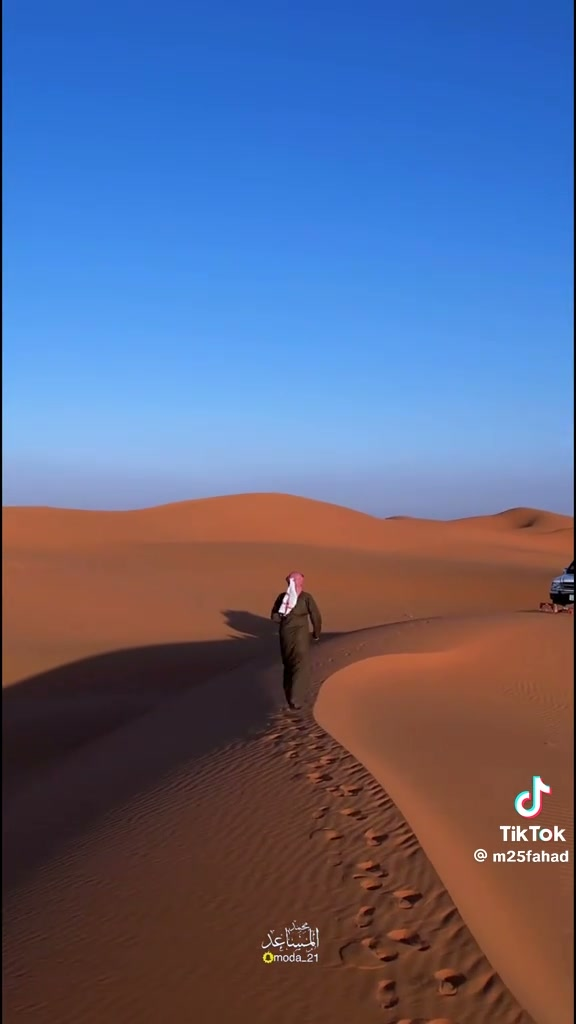human_foot_print: (271, 723, 427, 983), (271, 572, 321, 709), (339, 935, 397, 970), (387, 928, 429, 951), (434, 968, 465, 996), (392, 888, 422, 909), (376, 979, 397, 1008), (355, 905, 375, 927), (364, 828, 386, 846)
